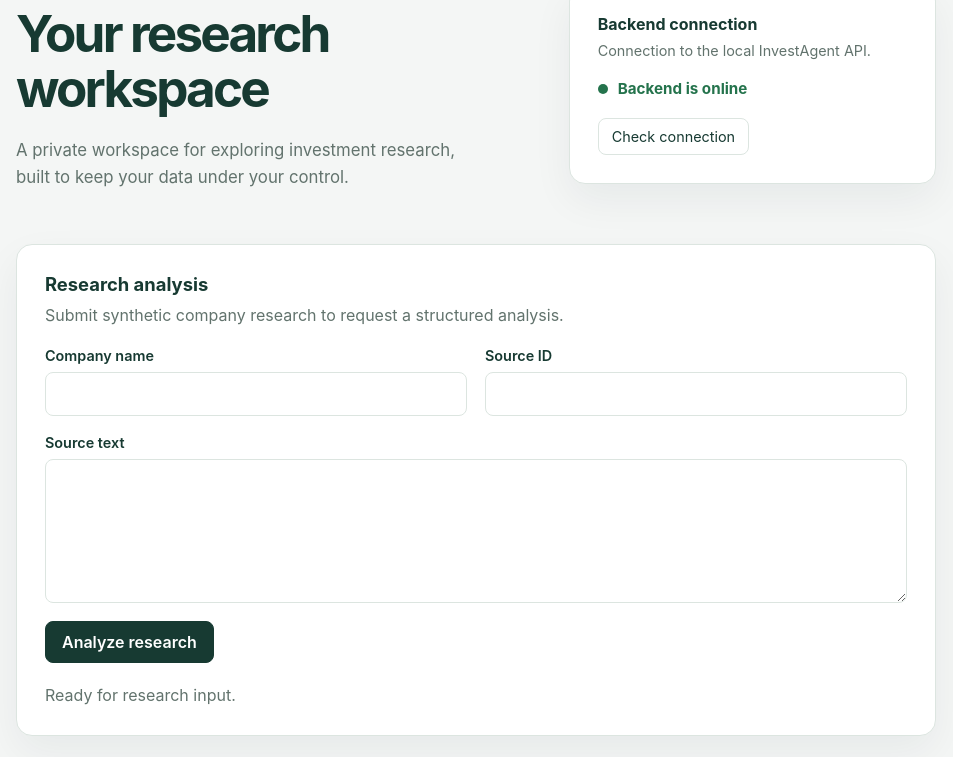
dashboard › shows a validation error when required research fields are empty
The width and height of the screenshot is (953, 757).
(page scrolled)
Step 1. Click the button with test id "research-submit" → (129, 642), box [45,621,214,663]
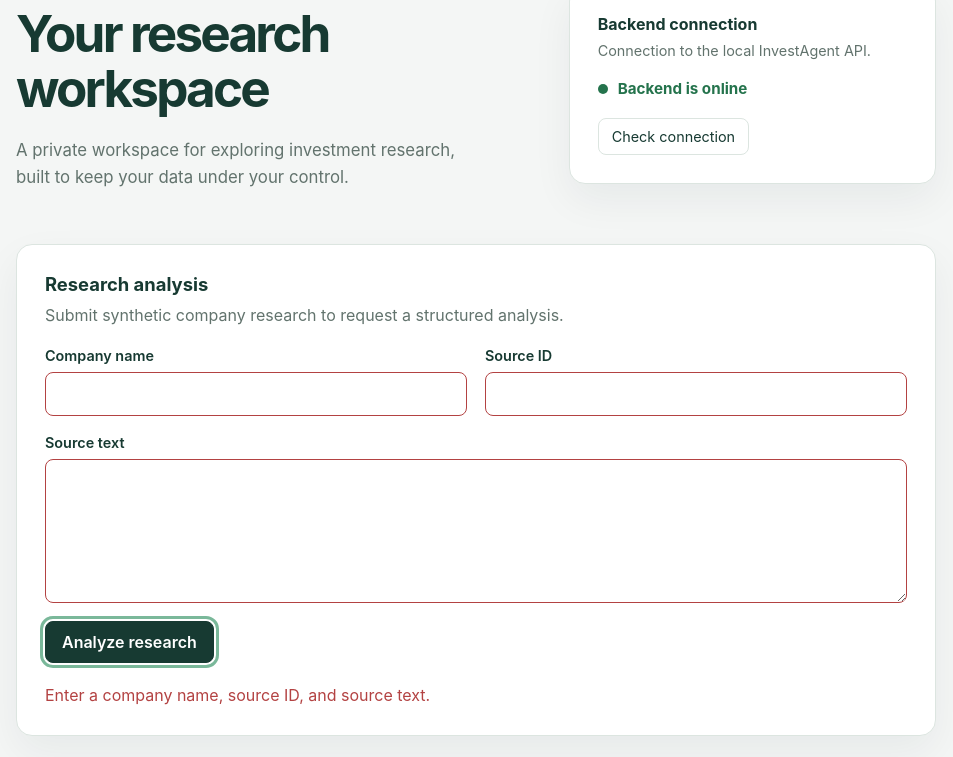
Expected: the message "Enter a company name, source ID, and source text." is shown, [45,685,430,705]
